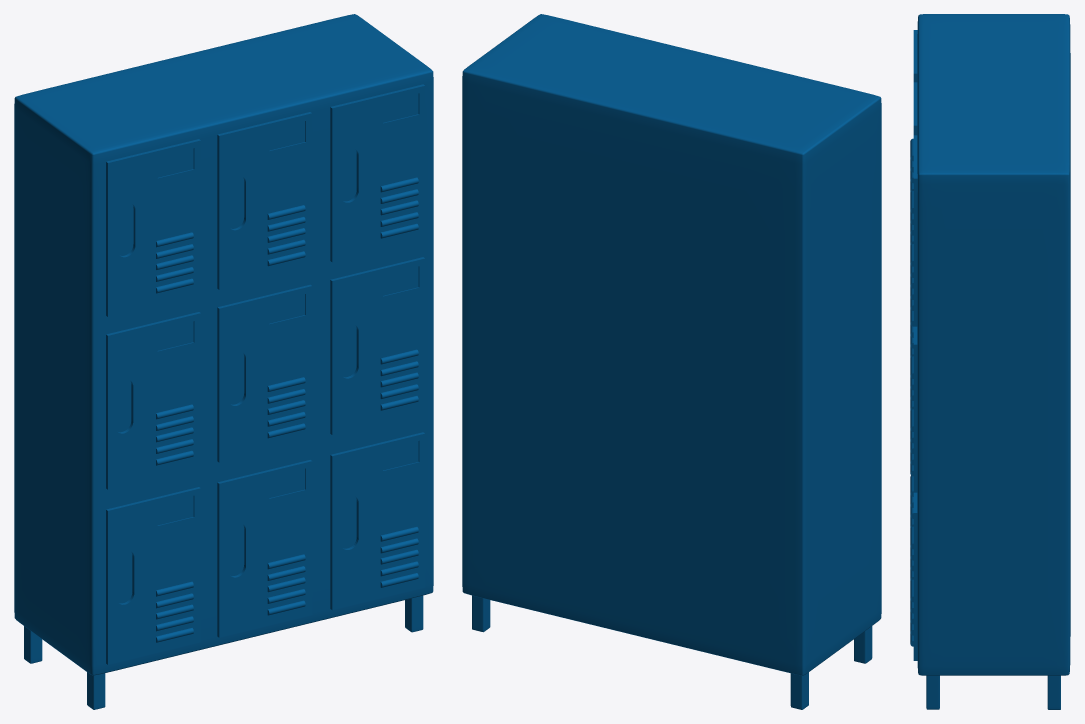
File: Locker.glb
The picture shows the model from 3 angles, left to right: view 1: azimuth 30°, elevation 25°; view 2: azimuth 150°, elevation 25°; view 3: azimuth 270°, elevation 25°; orthographic projection. The views are drawn at different scales.
Parts seen in each view (by area): view 1: pCube1, pCube32, pCube36, pCube33, pCube37, pCube34, pCube31, pCube29, pCube30, pCube35, pCube39; view 2: pCube1, pCube40; view 3: pCube1, pCube36, pCube32, pCube33, pCube38, pCube41.
Boxes of the visible parts, left/top/right/bottom form: pCube1: left=14, top=14, right=433, bottom=675; pCube32: left=330, top=432, right=425, bottom=610; pCube36: left=330, top=84, right=425, bottom=262; pCube33: left=330, top=257, right=425, bottom=434; pCube37: left=217, top=112, right=312, bottom=289; pCube34: left=217, top=284, right=312, bottom=462; pCube31: left=217, top=460, right=312, bottom=637; pCube29: left=106, top=139, right=200, bottom=316; pCube30: left=106, top=487, right=200, bottom=664; pCube35: left=106, top=312, right=200, bottom=489; pCube39: left=87, top=672, right=105, bottom=709; pCube1: left=462, top=14, right=881, bottom=675; pCube40: left=790, top=672, right=808, bottom=709; pCube1: left=917, top=14, right=1070, bottom=675; pCube36: left=913, top=135, right=917, bottom=326; pCube32: left=913, top=492, right=917, bottom=660; pCube33: left=913, top=326, right=917, bottom=492; pCube38: left=926, top=675, right=939, bottom=709; pCube41: left=1047, top=675, right=1060, bottom=709.
Size of the model in its own units: 6.72 by 10.52 by 2.83.
